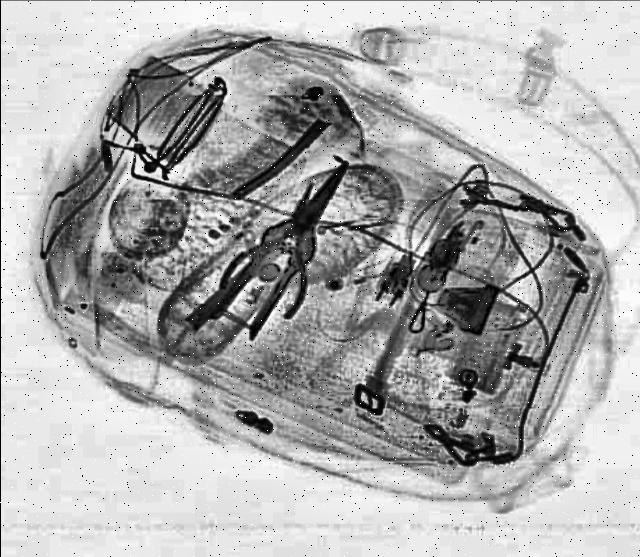Pliers: (216, 170, 360, 322)
